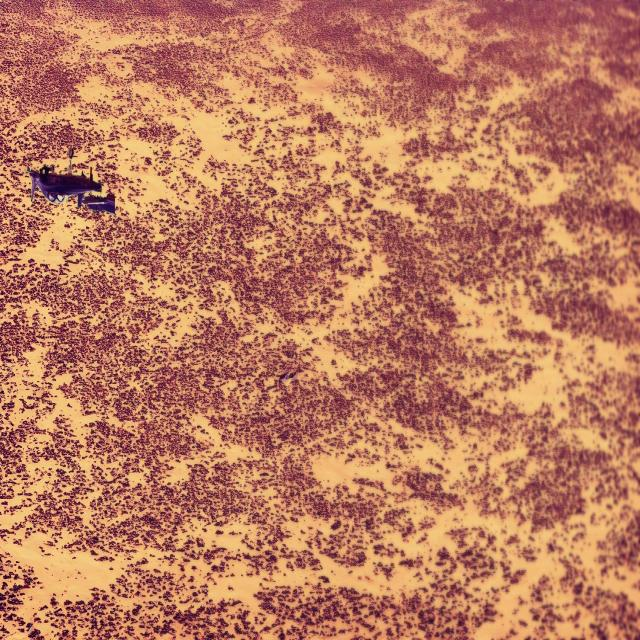airplane: (28, 147, 115, 214)
